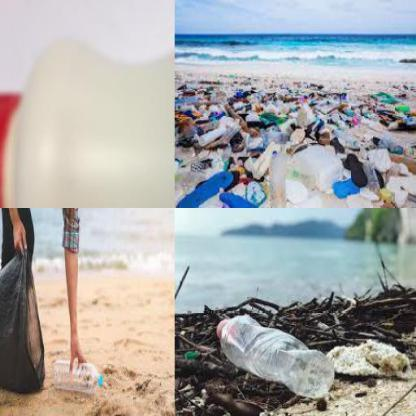plastic bag: (1, 251, 47, 393)
plastic bottle: (217, 316, 334, 399), (52, 360, 103, 395)
